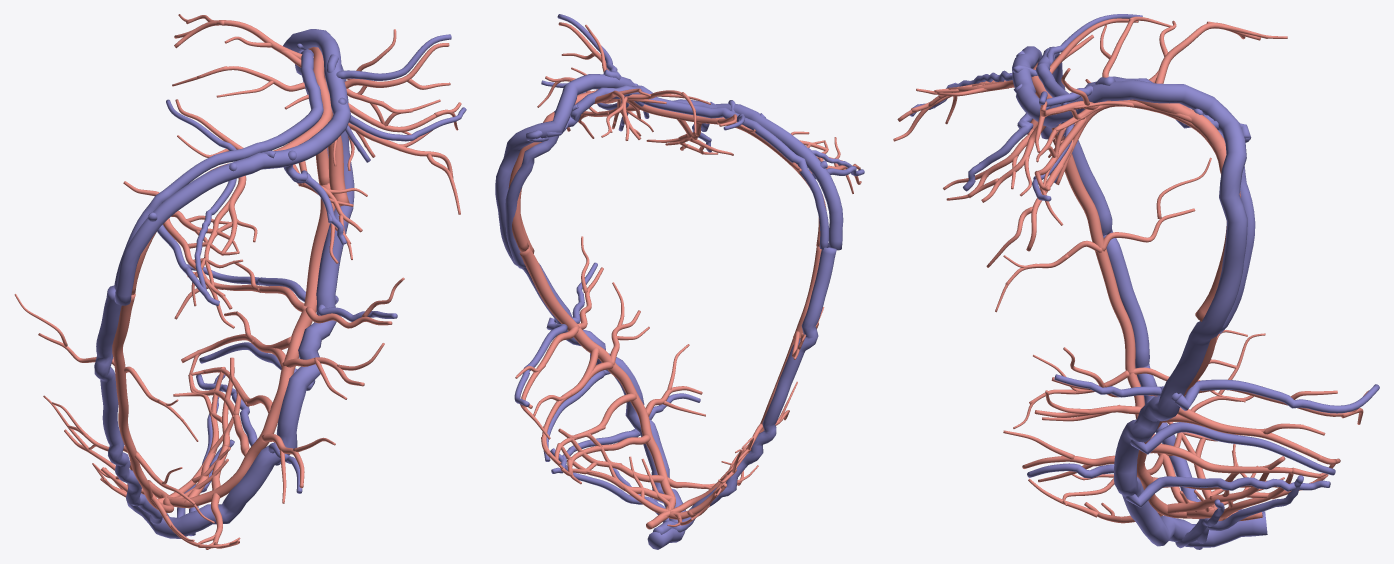
Rendered from vessels_63.glb.
3 renders of one model, left to right at view 1: azimuth 30°, elevation 25°; view 2: azimuth 150°, elevation 25°; view 3: azimuth 270°, elevation 25°, orthographic. The views are drawn at different scales.
Parts seen in each view (by area): view 1: Renderer Node; view 2: Renderer Node; view 3: Renderer Node.
Boxes of the visible parts, x1,y1,x2,y2 form: Renderer Node: (14, 14, 466, 549); Renderer Node: (495, 14, 864, 549); Renderer Node: (893, 14, 1379, 549).
Size of the model in its own units: 95.09 by 123 by 95.61.
